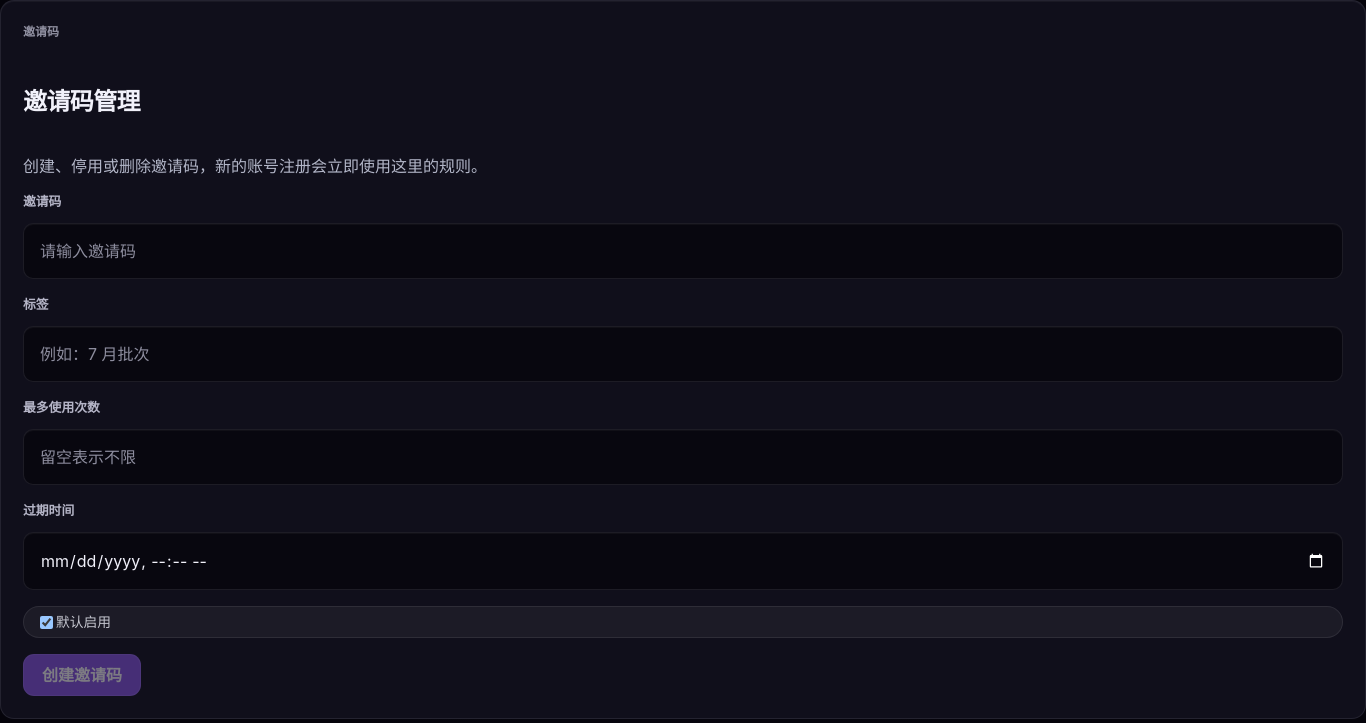
Test: InviteCodesPanel › rejects invalid max uses value 0
In the field labelled "邀请码": (683,251) [23,223,1343,279], type "SMBU@2014520uu-"
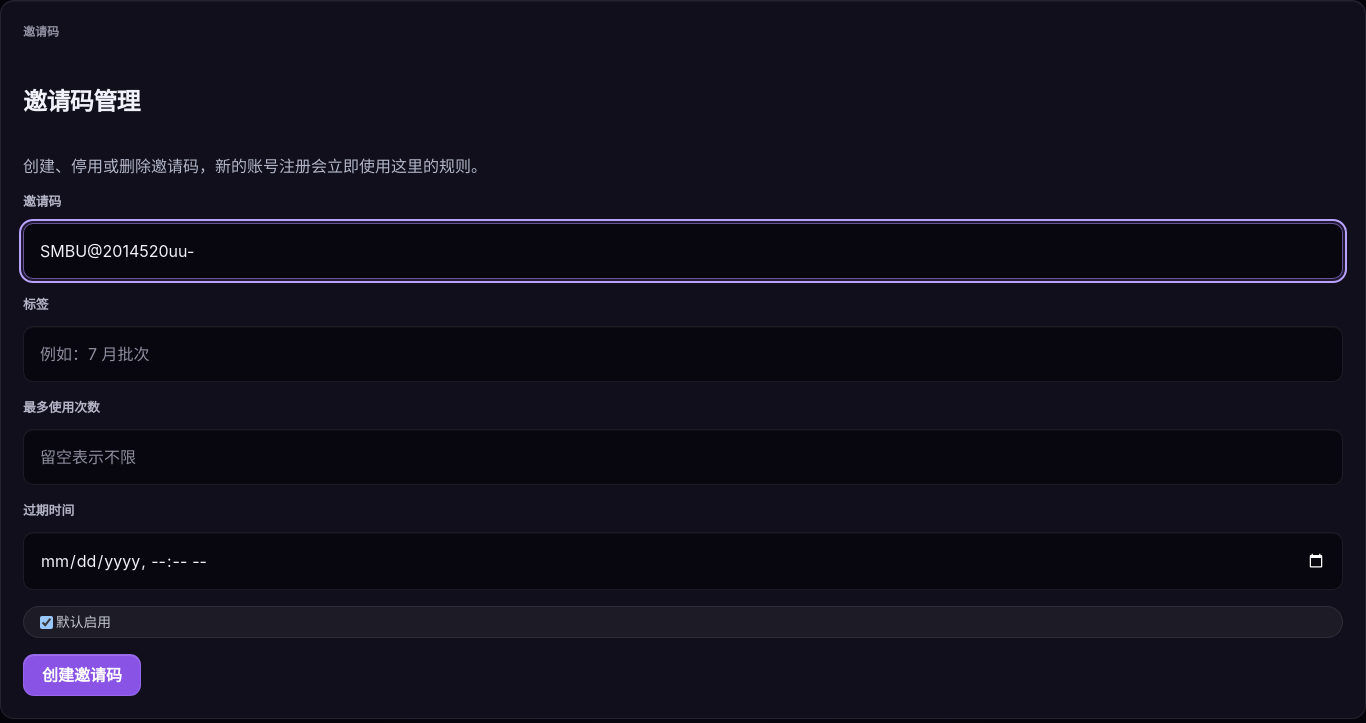
In the number field labelled "最多使用次数": (683,457) [23,429,1343,485], type "0"
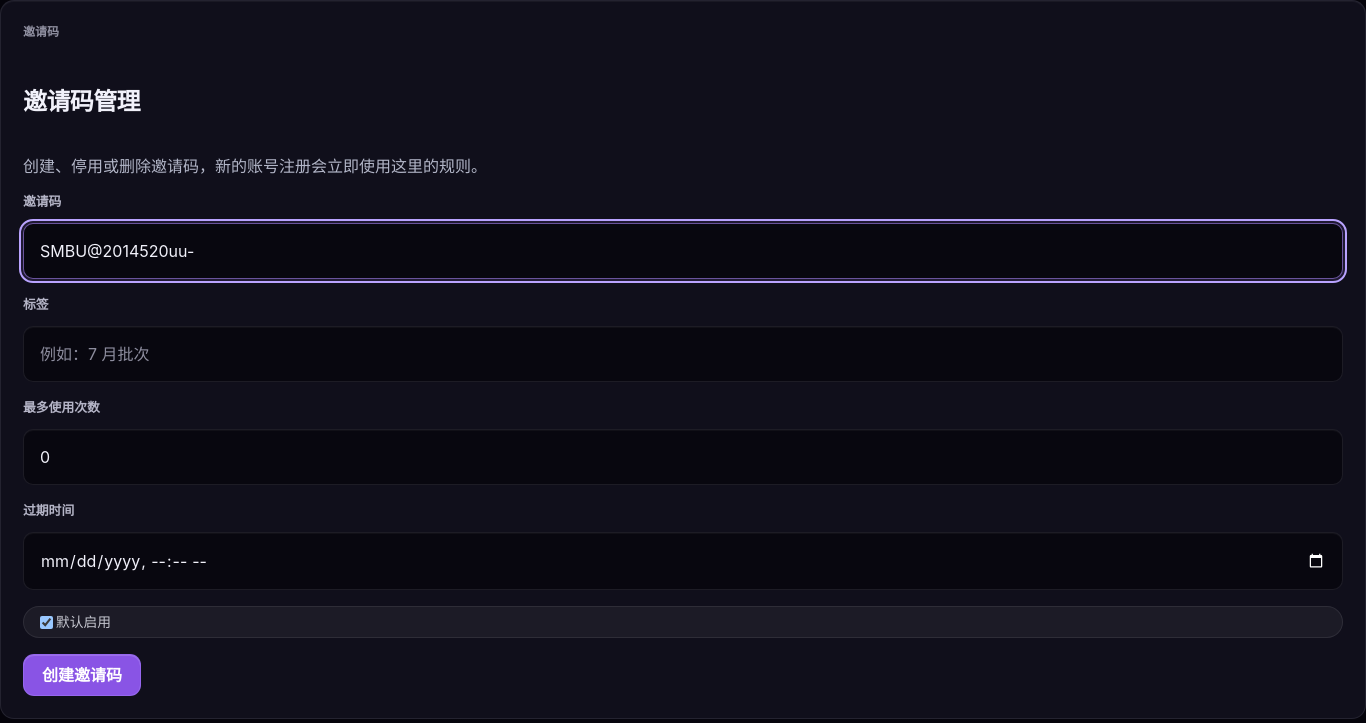
Submit the form labelled "最多使用次数"
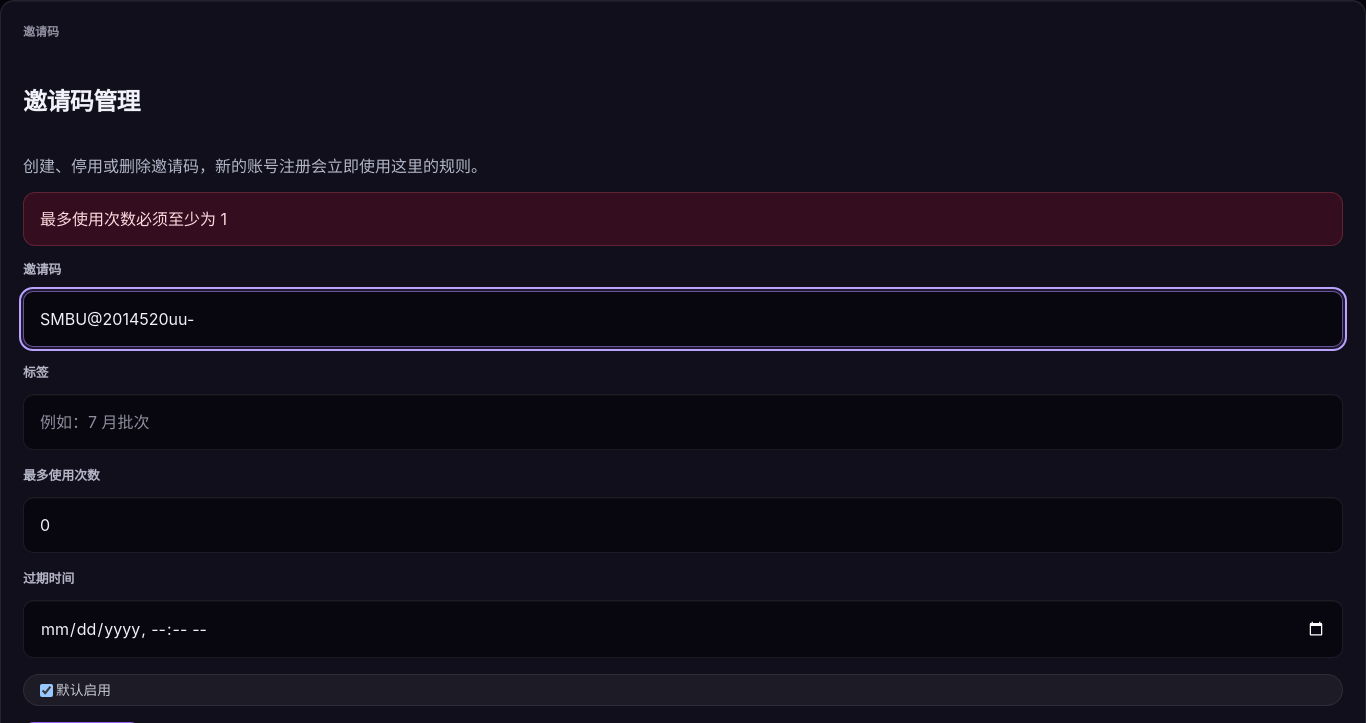
Check: the message reads "最多使用次数必须至少为 1", box [40,209,227,229]
